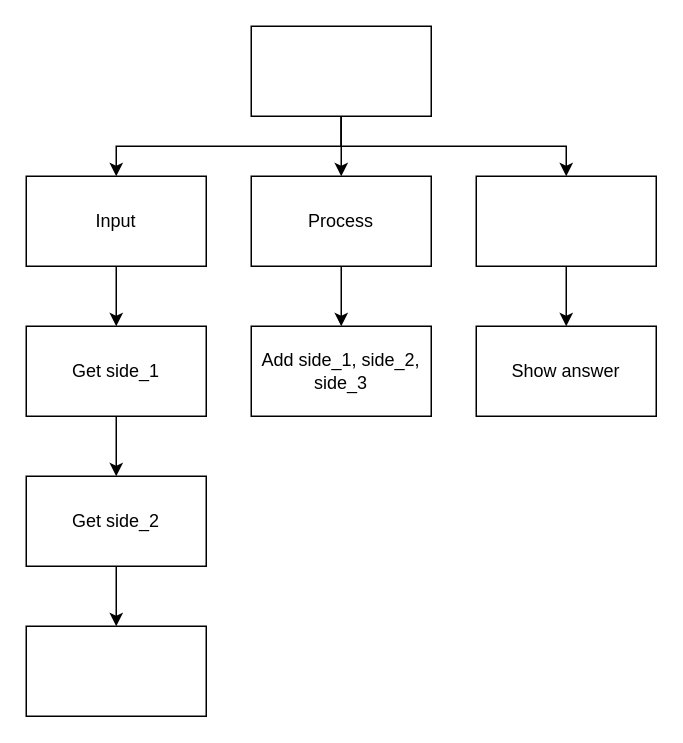
Some shapes in this 683 by 743 pixel diagram are drawn without their labels. Here are the shapes that lost their labels. From the top down, the box of each, then its label:
(250, 25, 431, 116): Perimeter of a Triangle
(475, 175, 656, 266): Output
(25, 625, 206, 716): Get side_3
